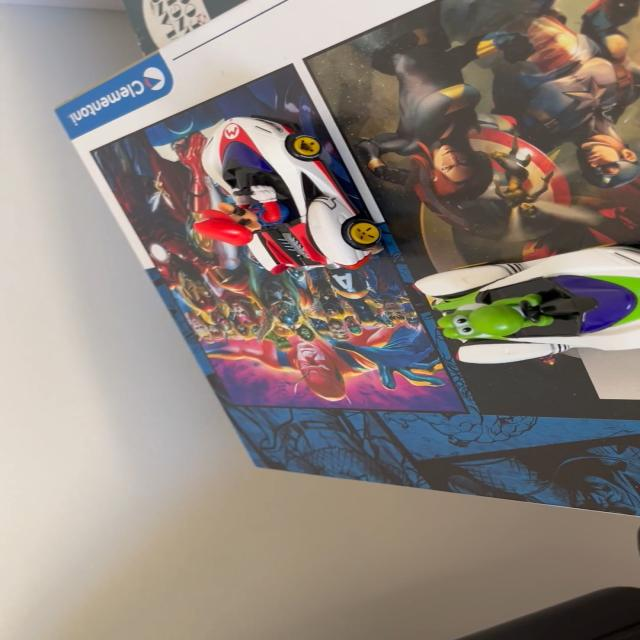mario: (184, 111, 396, 276)
yoshi: (397, 240, 636, 378)
